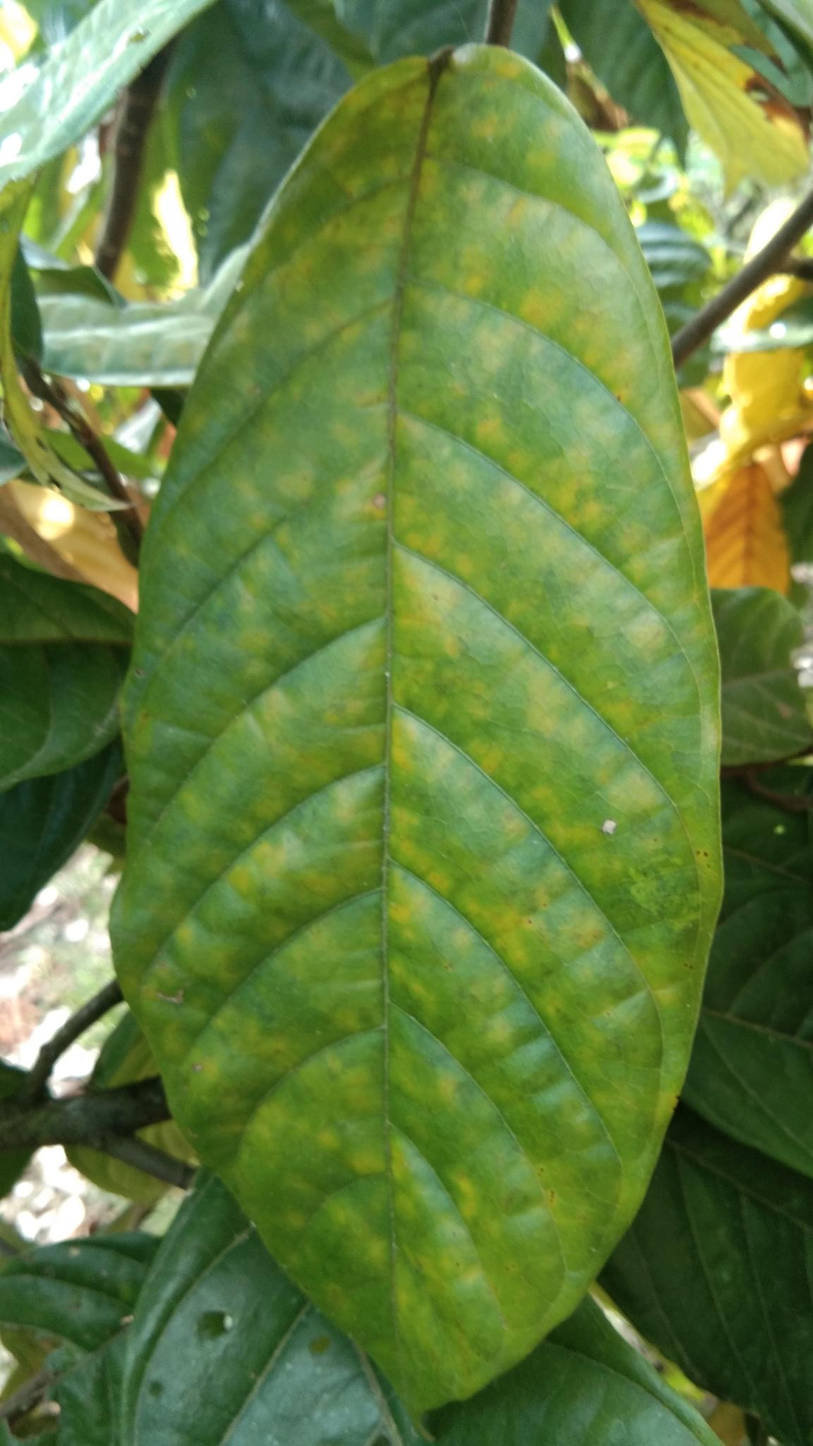Fosforo: (101, 36, 731, 1446)
